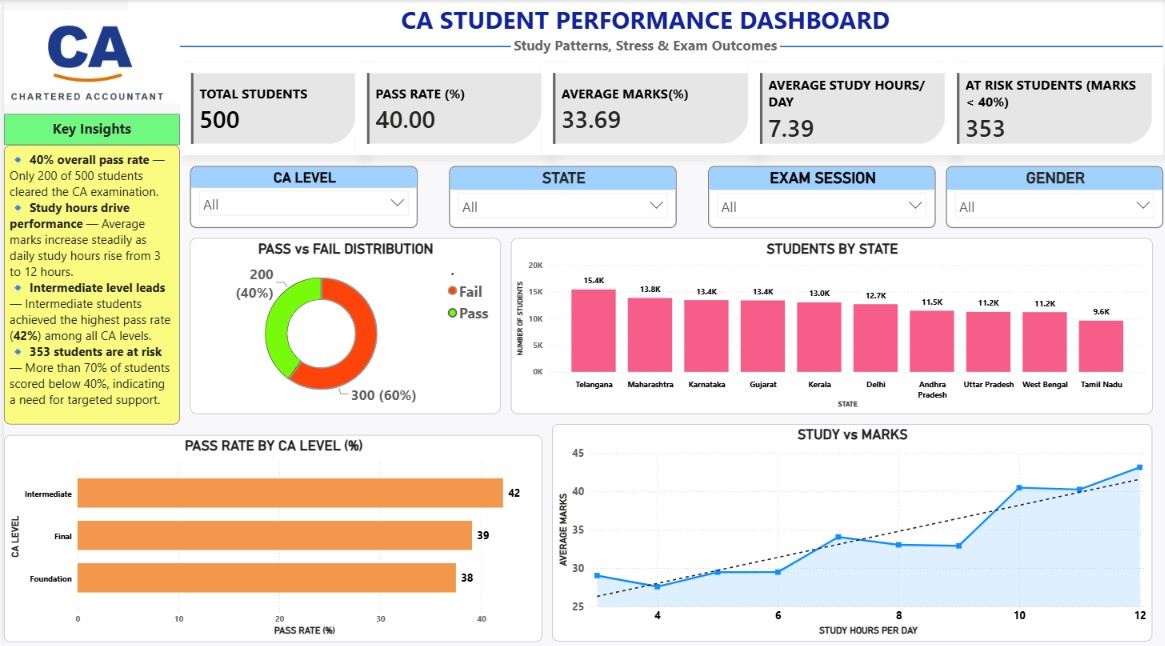

This screenshot's page, from the dashboard's own definition file:
{"tool":"powerbi","page":{"name":"Page 1","canvas":[1800,1000],"ordinal":0},"visuals":[{"type":"textbox","box":[192,0,1600,96],"z":0},{"type":"cardVisual","fields":{"Data":["CA student analysis.Total Students"]},"box":[272,96,288,144],"z":1000},{"type":"cardVisual","fields":{"Data":["CA student analysis.Pass Rate %"]},"box":[544,96,304,144],"z":2000},{"type":"cardVisual","fields":{"Data":["CA student analysis.Average Marks"]},"box":[832,96,336,144],"z":3000},{"type":"cardVisual","fields":{"Data":["CA student analysis.Average Study Hours"]},"box":[1152,96,320,144],"z":4000},{"type":"cardVisual","fields":{"Data":["CA student analysis.At Risk Students"]},"box":[1456,96,336,144],"z":5000},{"type":"textbox","box":[0,176,272,48],"z":7000},{"type":"slicer","title":"CA LEVEL","fields":{"Values":["CA student analysis.ca_level"]},"box":[288,256,352,96],"z":8000},{"type":"slicer","title":"STATE","fields":{"Values":["CA student analysis.state"]},"box":[688,256,352,96],"z":9000},{"type":"slicer","title":"EXAM SESSION","fields":{"Values":["CA student analysis.exam_session"]},"box":[1088,256,352,96],"z":10000},{"type":"slicer","title":"GENDER","fields":{"Values":["CA student analysis.gender"]},"box":[1456,256,336,96],"z":11000},{"type":"donutChart","title":"PASS vs FAIL DISTRIBUTION","fields":{"Category":["CA student analysis.status"],"Y":["CountNonNull(CA student analysis.student_id)"]},"box":[288,368,480,272],"z":12000},{"type":"barChart","title":"PASS RATE BY CA LEVEL (%) ","fields":{"Category":["CA student analysis.ca_level"],"Y":["CA student analysis.Pass Rate %"]},"box":[0,672,832,320],"z":13000},{"type":"lineChart","title":"STUDY vs MARKS","fields":{"Category":["CA student analysis.study_hours_per_day"],"Y":["CA student analysis.Average Marks"]},"box":[848,656,928,336],"z":14000},{"type":"columnChart","title":"STUDENTS BY STATE","fields":{"Category":["CA student analysis.state"],"Y":["Sum(CA student analysis.student_id)"]},"box":[784,368,992,272],"z":15000},{"type":"textbox","box":[0,224,272,432],"z":16000},{"type":"shape","box":[1200,48,592,48],"z":17000},{"type":"shape","box":[192,48,592,48],"z":18000},{"type":"image","box":[0,0,272,176],"z":18001}]}

Visuals, with their boxes in screenshot pixels (x1, y1, x2, y2), scaled from the page's 1800x1000 canvas onto the 1165x646 screenshot:
textbox: 124,0,1160,62
cardVisual - CA student analysis.Total Students: 176,62,362,155
cardVisual - CA student analysis.Pass Rate %: 352,62,549,155
cardVisual - CA student analysis.Average Marks: 538,62,756,155
cardVisual - CA student analysis.Average Study Hours: 746,62,953,155
cardVisual - CA student analysis.At Risk Students: 942,62,1160,155
textbox: 0,114,176,145
"CA LEVEL" slicer: 186,165,414,227
"STATE" slicer: 445,165,673,227
"EXAM SESSION" slicer: 704,165,932,227
"GENDER" slicer: 942,165,1160,227
"PASS vs FAIL DISTRIBUTION" donutChart: 186,238,497,413
"PASS RATE BY CA LEVEL (%) " barChart: 0,434,538,641
"STUDY vs MARKS" lineChart: 549,424,1149,641
"STUDENTS BY STATE" columnChart: 507,238,1149,413
textbox: 0,145,176,424
shape: 777,31,1160,62
shape: 124,31,507,62
image: 0,0,176,114
